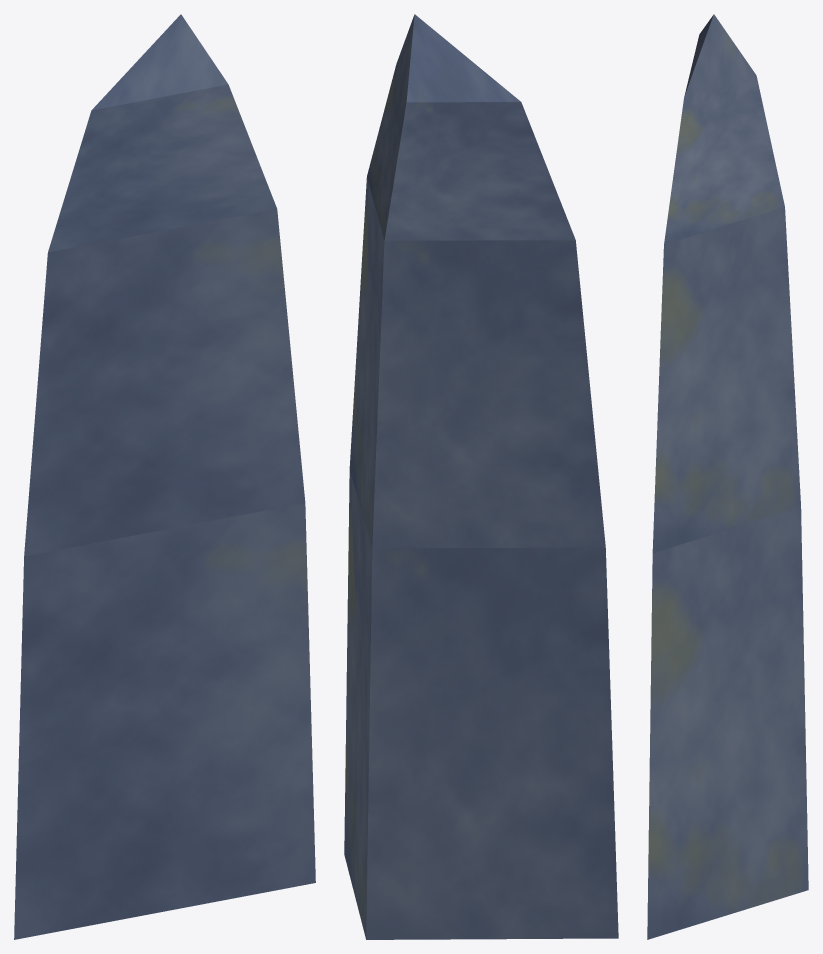
The model's file is Oracle_Menhir_1_LOD2.gltf.
3 views of the same model, side by side, from view 1: azimuth 30°, elevation 25°; view 2: azimuth 150°, elevation 25°; view 3: azimuth 270°, elevation 25° (orthographic). The views are drawn at different scales.
Visible parts, largest first — view 1: Oracle_Menhir_1_LOD2; view 2: Oracle_Menhir_1_LOD2; view 3: Oracle_Menhir_1_LOD2.
Boxes of the visible parts, x1,y1,x2,y2 form: Oracle_Menhir_1_LOD2: (14, 14, 315, 939); Oracle_Menhir_1_LOD2: (344, 14, 618, 939); Oracle_Menhir_1_LOD2: (647, 14, 808, 939).
Bounding box in the file's own units: 1.12 × 3.26 × 0.5446.
1 material, 1 textured.
